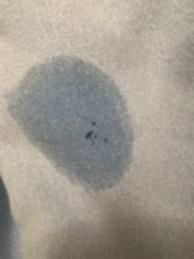ink: (30, 55, 133, 183)
